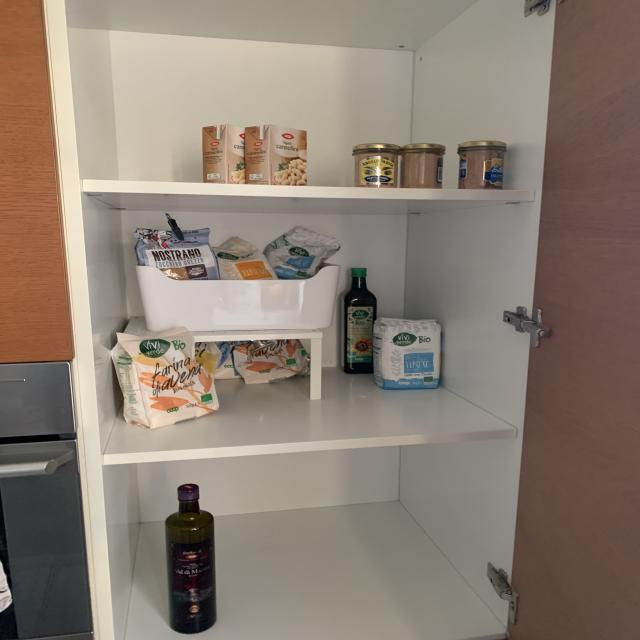beans: (245, 125, 307, 186), (202, 124, 245, 184)
flour: (112, 327, 219, 428), (373, 316, 442, 390), (265, 226, 340, 280), (212, 237, 278, 280)
oil: (164, 483, 217, 634), (342, 267, 377, 372)
sugar: (135, 224, 220, 281)
tuna_fish: (353, 152, 398, 188), (459, 152, 503, 188), (401, 152, 442, 187)
